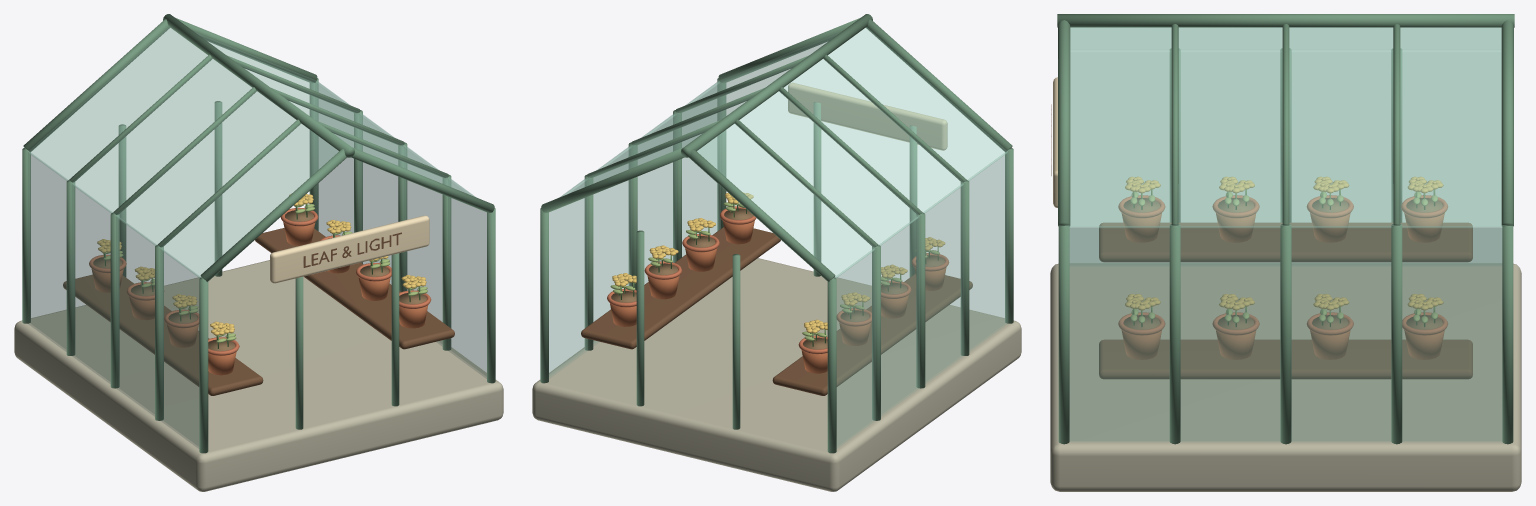
Rendered from greenhouse.glb.
3 renders of one model, left to right at view 1: azimuth 30°, elevation 25°; view 2: azimuth 150°, elevation 25°; view 3: azimuth 270°, elevation 25°, orthographic. The views are drawn at different scales.
Visible parts, largest first — view 1: greenhouse_World_Mesh, Planter.015_Mesh, Planter.020_Mesh, Planter.016_Mesh, Planter.017_Mesh, Planter.019_Mesh, Planter.014_Mesh, Planter.013_Mesh; view 2: greenhouse_World_Mesh, Planter.018_Mesh, Planter.019_Mesh, Planter.014_Mesh, Planter.015_Mesh, Planter.017_Mesh, Planter.013_Mesh, Planter.020_Mesh, Planter.016_Mesh; view 3: greenhouse_World_Mesh, Planter.013_Mesh, Planter.014_Mesh, Planter.017_Mesh, Planter.019_Mesh, Planter.020_Mesh, Planter.016_Mesh, Planter.018_Mesh, Planter.015_Mesh.
Part boxes in pixels (<box>): greenhouse_World_Mesh: <box>14,14,503,491</box>; Planter.015_Mesh: <box>164,294,199,347</box>; Planter.020_Mesh: <box>399,275,431,328</box>; Planter.016_Mesh: <box>208,321,239,375</box>; Planter.017_Mesh: <box>280,194,318,245</box>; Planter.019_Mesh: <box>356,256,391,300</box>; Planter.014_Mesh: <box>126,266,164,319</box>; Planter.013_Mesh: <box>89,239,126,292</box>; greenhouse_World_Mesh: <box>532,14,1021,491</box>; Planter.018_Mesh: <box>644,245,682,299</box>; Planter.019_Mesh: <box>682,218,719,271</box>; Planter.014_Mesh: <box>836,292,871,345</box>; Planter.015_Mesh: <box>881,264,911,318</box>; Planter.017_Mesh: <box>607,273,644,326</box>; Planter.013_Mesh: <box>798,319,827,373</box>; Planter.020_Mesh: <box>720,192,756,244</box>; Planter.016_Mesh: <box>911,237,948,290</box>; greenhouse_World_Mesh: <box>1050,14,1521,491</box>; Planter.013_Mesh: <box>1401,176,1447,242</box>; Planter.014_Mesh: <box>1307,176,1353,242</box>; Planter.017_Mesh: <box>1402,294,1447,359</box>; Planter.019_Mesh: <box>1212,294,1259,359</box>; Planter.020_Mesh: <box>1118,294,1165,359</box>; Planter.016_Mesh: <box>1118,176,1165,242</box>; Planter.018_Mesh: <box>1307,294,1353,359</box>; Planter.015_Mesh: <box>1212,176,1259,242</box>.
Size of the model in its own units: 3.2 by 3.08 by 3.4.
